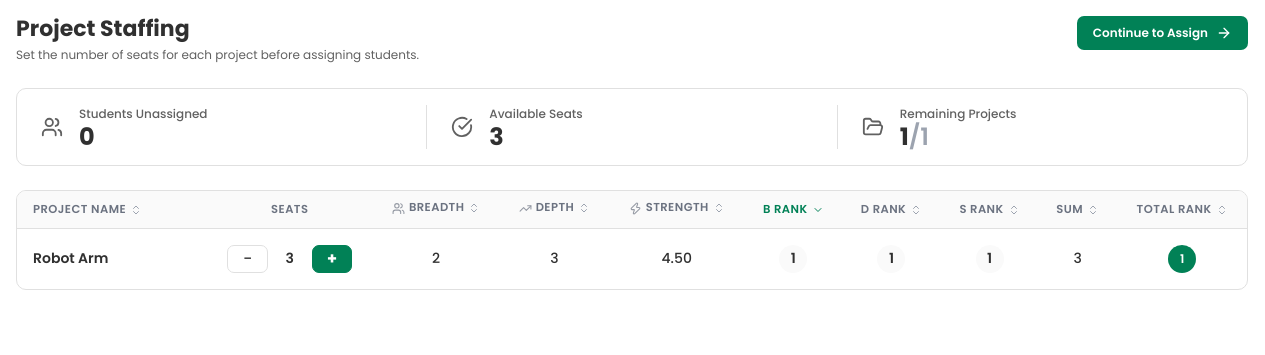
it: Staffing › keeps the error from a failed "Remove seat from Robot Arm" after the reload
Click the button named "Remove seat from Robot Arm" at x=248, y=259, box left=227, top=245, right=268, bottom=273
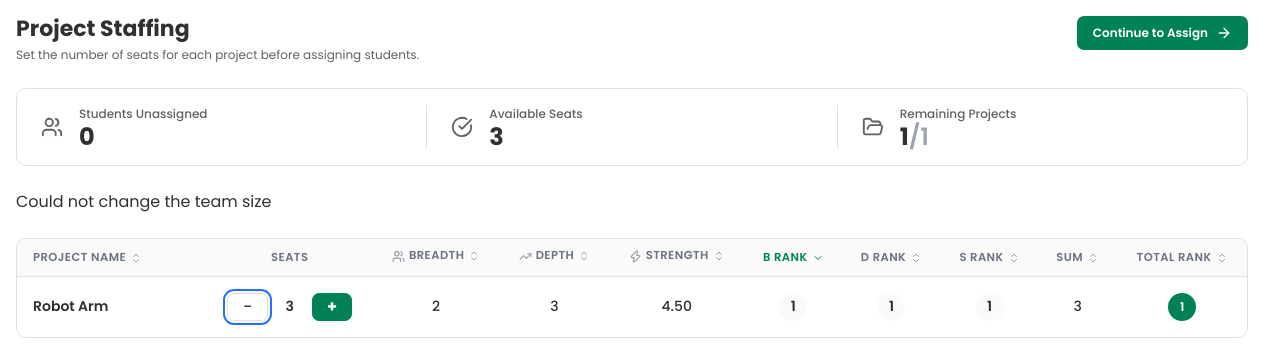
Expected: the cell named "Add seat to Robot Arm" shows "3", left=286, top=296, right=294, bottom=316
Expected: the text "Could not change the team size" is shown, left=16, top=190, right=272, bottom=213
